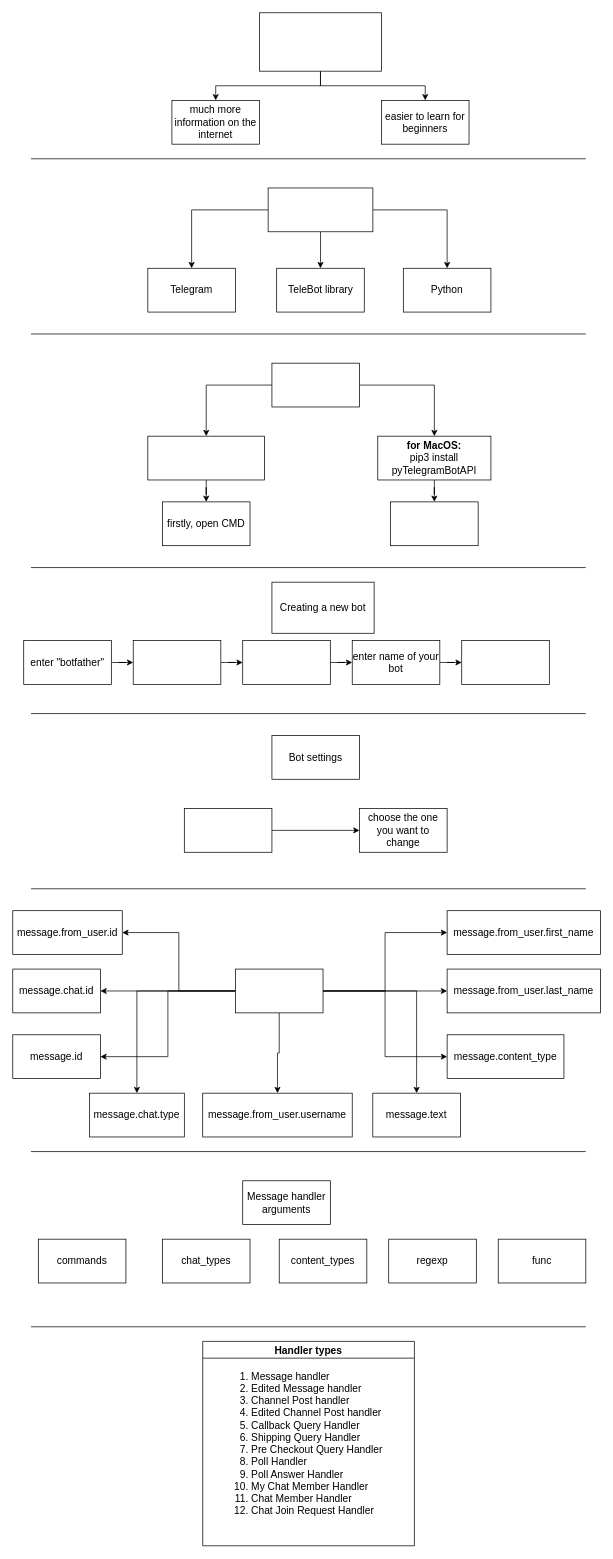
Image size: 613x1559. Some labels were removed from this diagram. The shapes that lost their labels are listed below. From the top down, each one's centre as x and y in pixels, then its label:
the point at 320,41: Why pyTelegramBotAPI? a.k.a. TeleBot
the point at 320,209: What do we need?
the point at 315,384: pyTelegramBot installation
the point at 206,457: for Windows: pip install pyTelegramBotAPI
the point at 434,523: firstly, open terminal
the point at 176,662: click "start"
the point at 286,662: click /newbot
the point at 505,662: enter username of your bot (it must end by "bot")
the point at 228,830: enter /mybots
the point at 279,990: Message object
